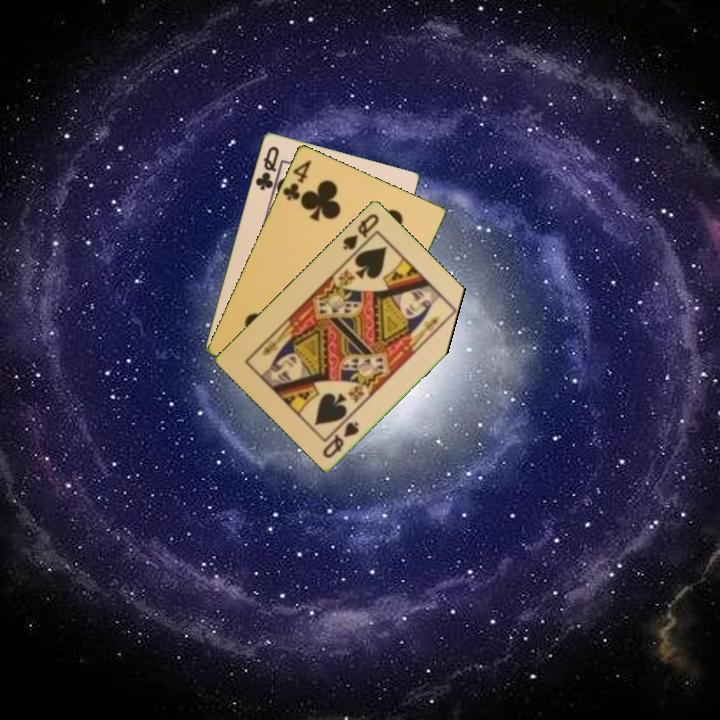4c: (279, 156, 314, 203)
Qc: (251, 142, 282, 193)
Qs: (339, 209, 382, 253), (319, 418, 362, 461)
